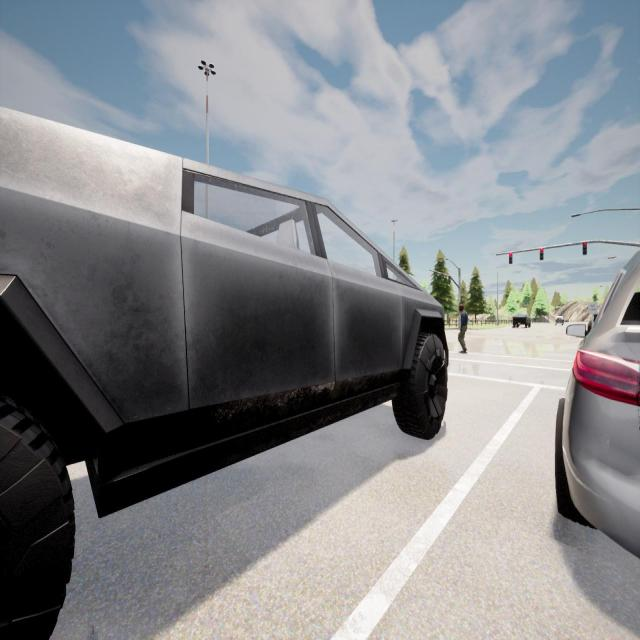Pedestrian: (458, 304, 468, 353)
Traffic_Signs: (588, 302, 597, 314)
Vehicle: (0, 105, 447, 640), (555, 246, 640, 565), (512, 313, 531, 329), (555, 316, 564, 325)
traffic_light: (583, 242, 587, 255), (540, 248, 543, 261), (509, 252, 512, 264), (441, 274, 444, 284), (434, 272, 437, 281), (448, 276, 450, 284)
